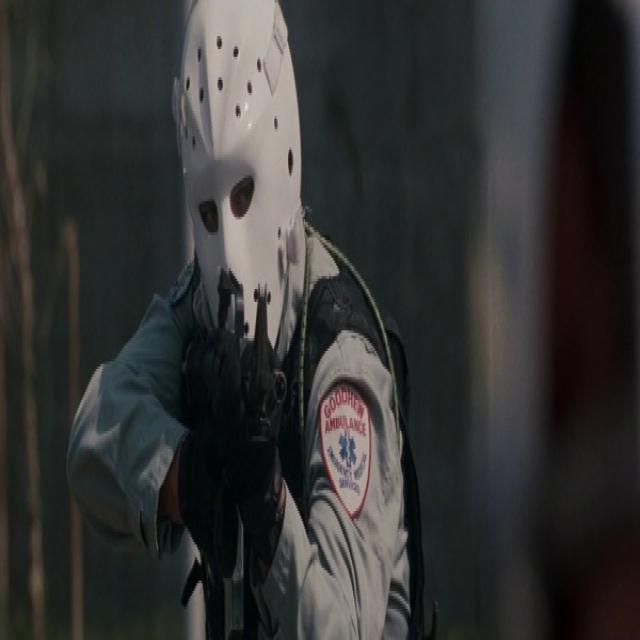rifle: (175, 279, 290, 476)
